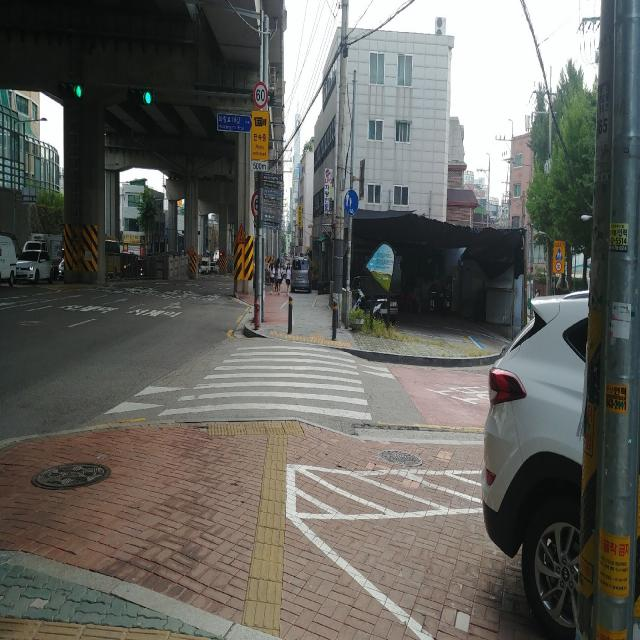횡단보도: (158, 346, 373, 421)
